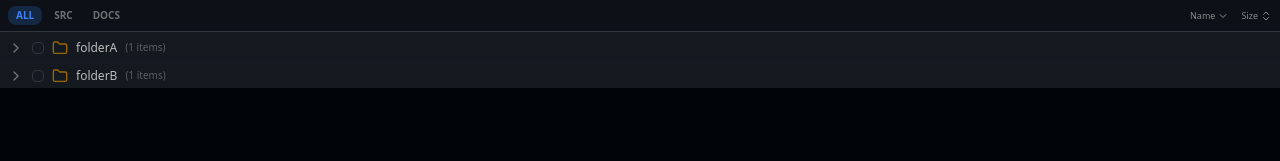
Test: FileTree Hierarchy › Multiple root directories › should handle multiple root folders independently
Expected: the text "folderA" is shown, [76,38,117,56]
Expected: the text "folderB" is shown, [76,66,117,84]
Note: Expand folderA
Click the button with test id "expand-icon" next to "folderA" at (16, 48), box [6,38,26,58]
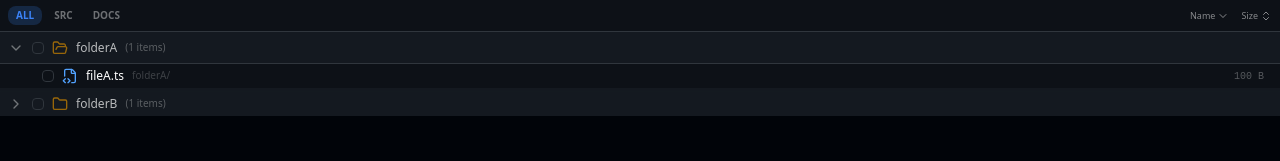
Expected: the text "fileB.ts" is not shown
Result: the text "fileA.ts" is shown at [86,66,124,84]
Note: Expand folderB
Click the 2nd button with test id "expand-icon" at (16, 104), box [6,94,26,114]
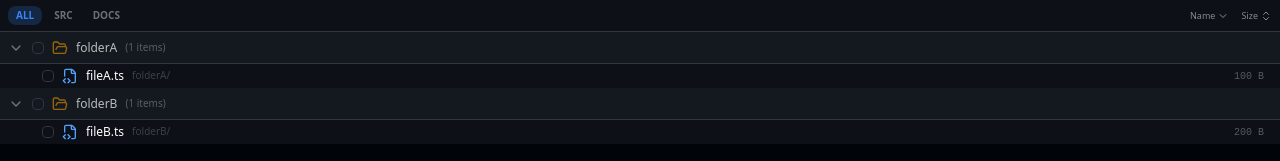
Result: the text "fileB.ts" is shown at [86,122,124,140]
